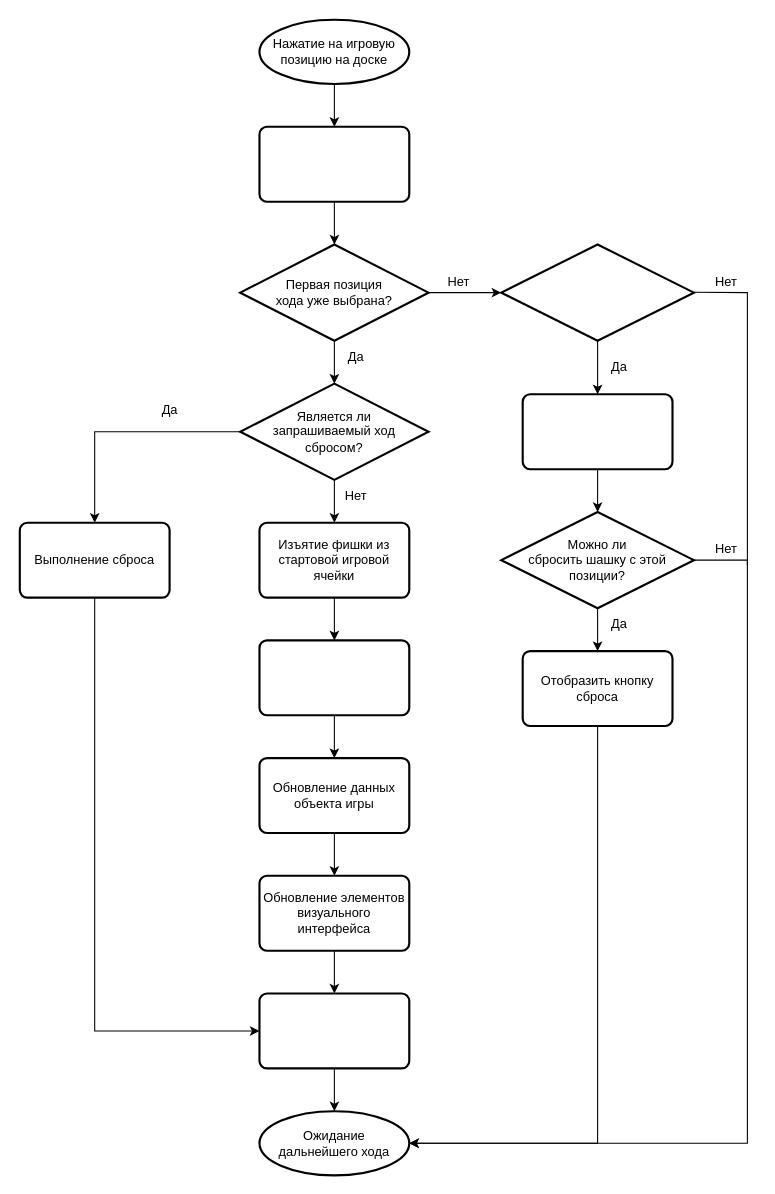
Image size: 775x1194. Some labels were removed from this diagram. The shapes that lost their labels are listed below. From the top down, each one's centre as x and y in pixels, then its label:
(x=334, y=163): Получение игровой позиции из названия нажатой кнопки
(x=597, y=292): Выбранная первая позиция валидна?
(x=597, y=431): Присваивание значения первой выбранной позиции
(x=334, y=677): Помещение фишки в конечную игровую ячейку
(x=334, y=1030): Скрыть кнопку сброса
